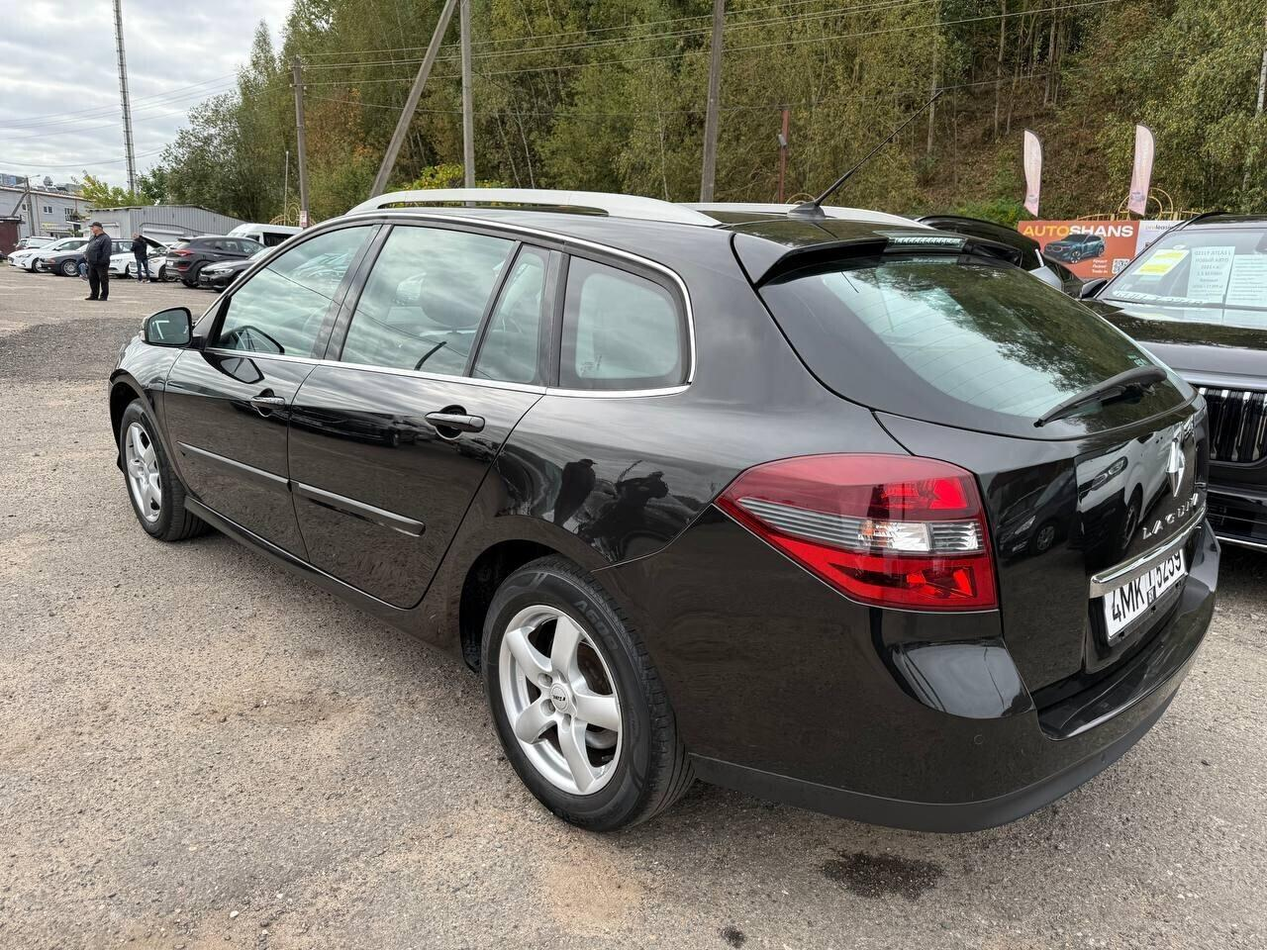Laguna_2010-2015: (105, 176, 1237, 861)
